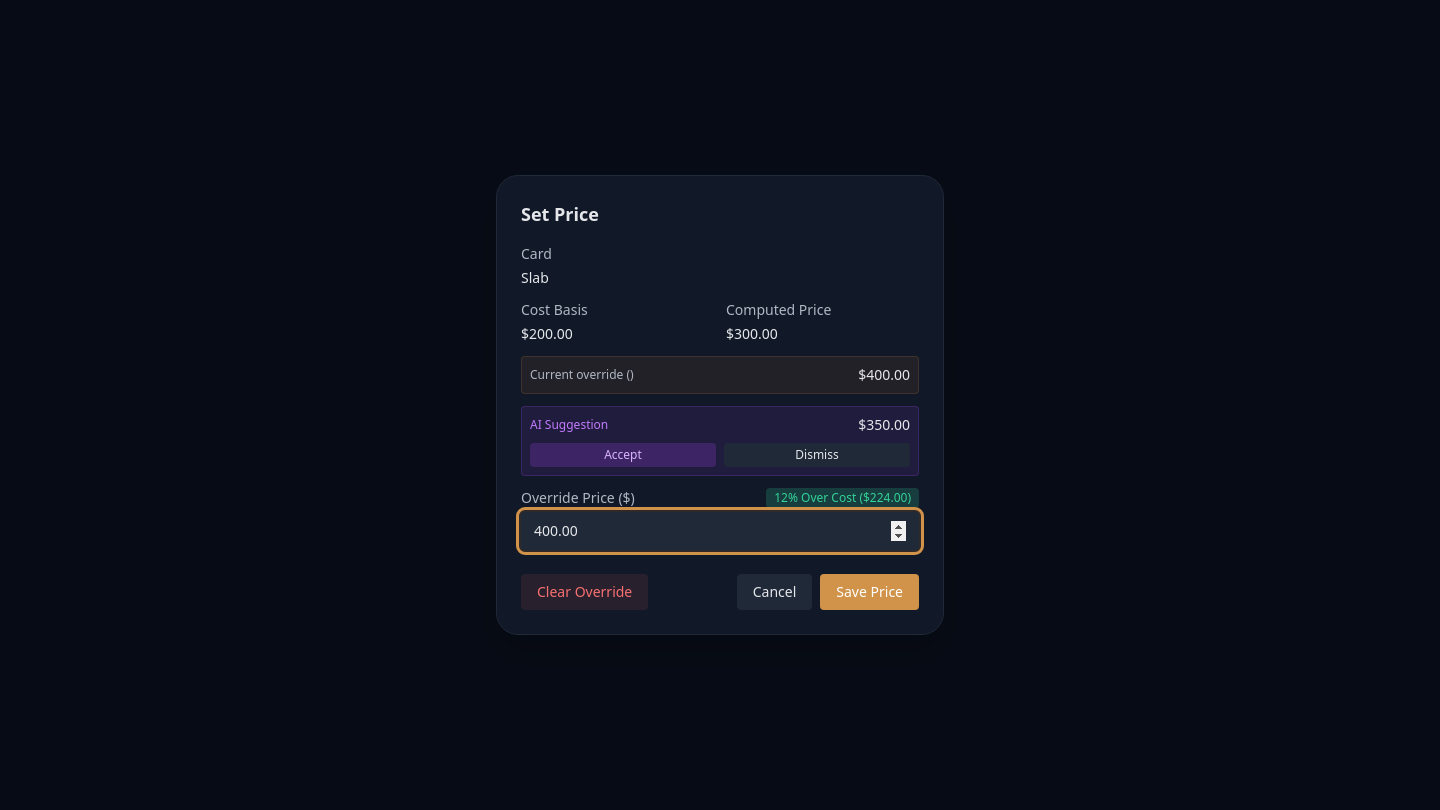
Test case: settles override/Save Price after unmount and full 200 response body
Step 1. Replace the text in the number field labelled "Override Price ($)" with "400" → (720, 531), box [521, 512, 919, 550]
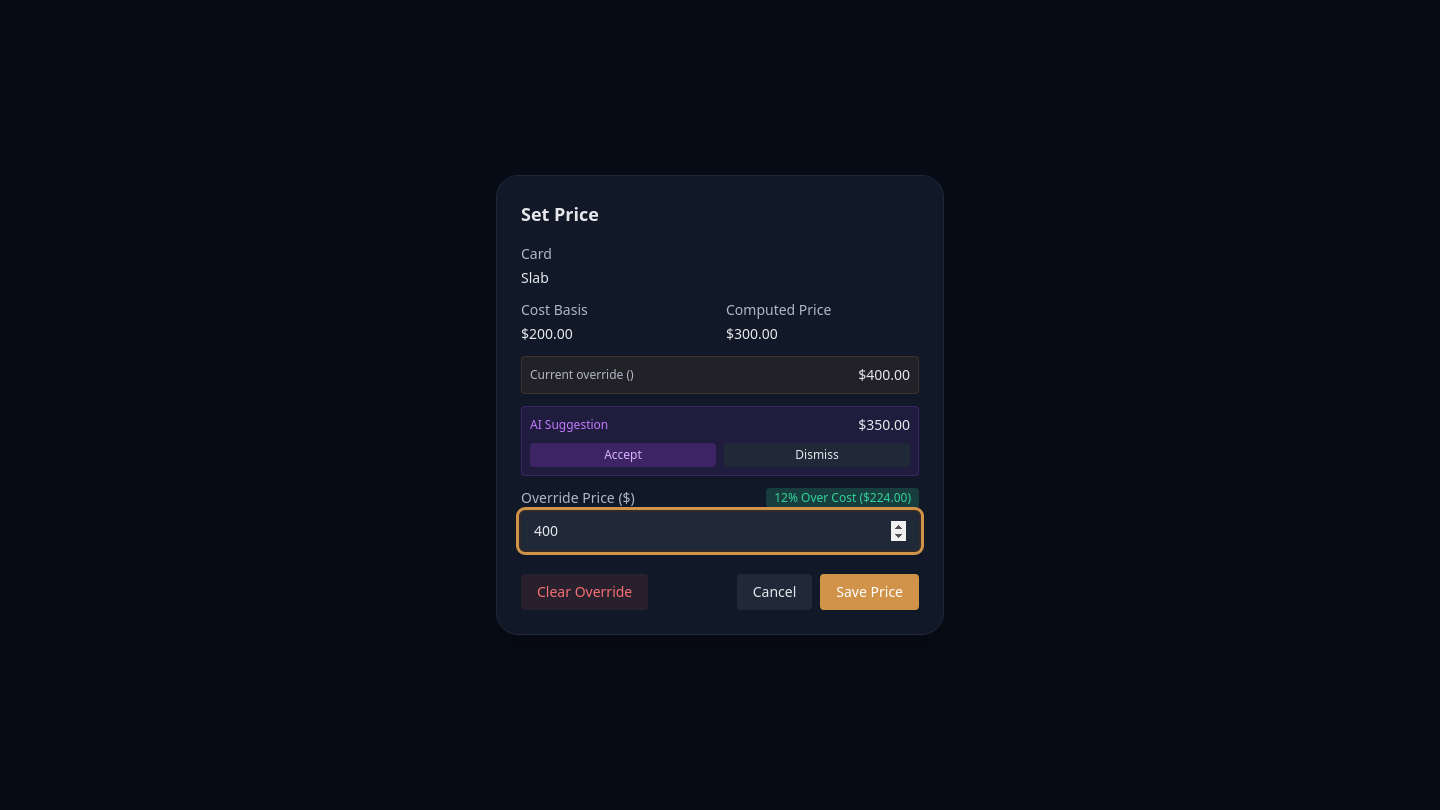
Step 2. Click the button "Save Price" → (870, 592), box [820, 574, 919, 610]
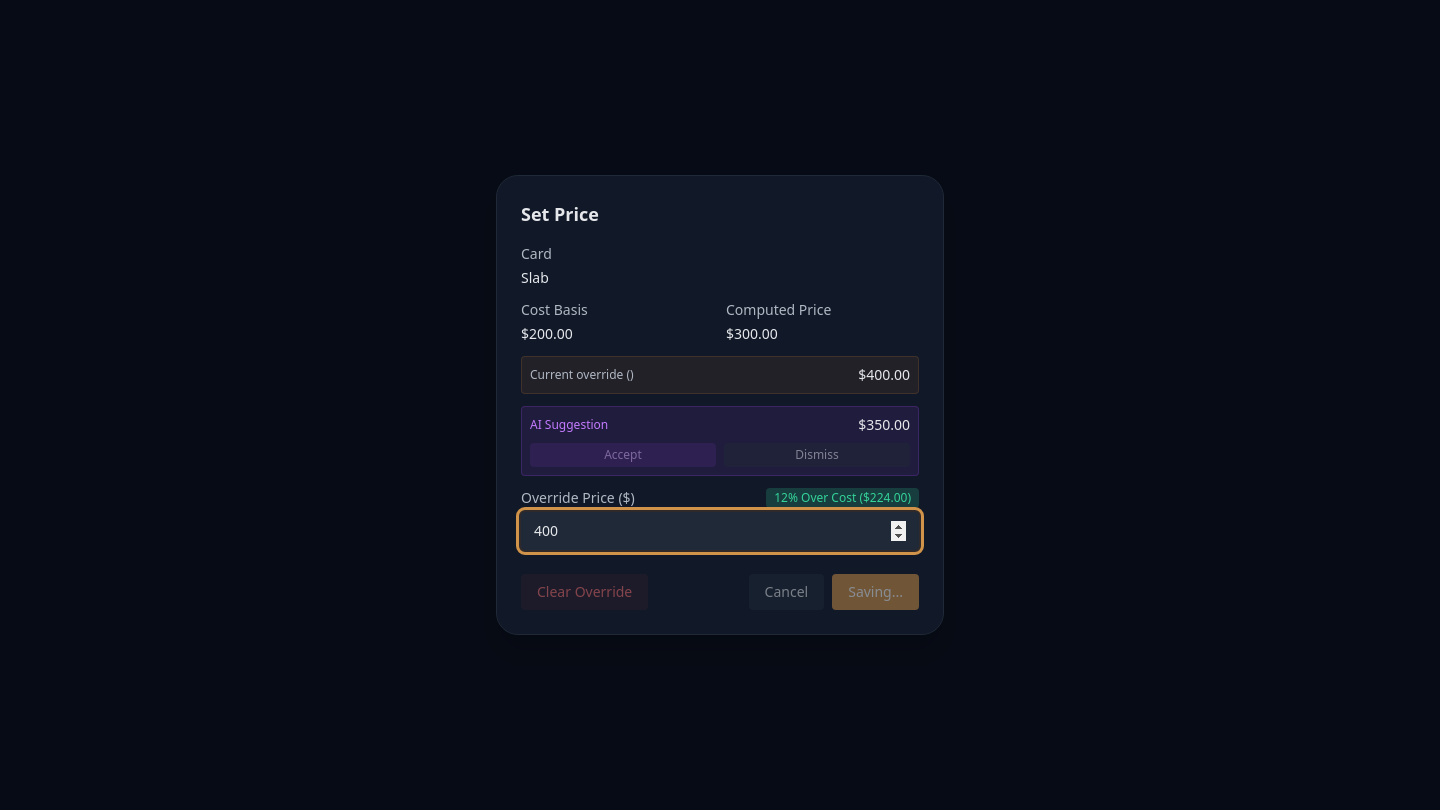
expect the button named "Save Price" is disabled: met, box [832, 574, 919, 610]
